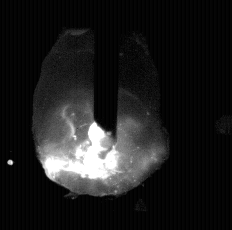arame: (94, 0, 120, 143)
poca: (31, 0, 163, 230)
